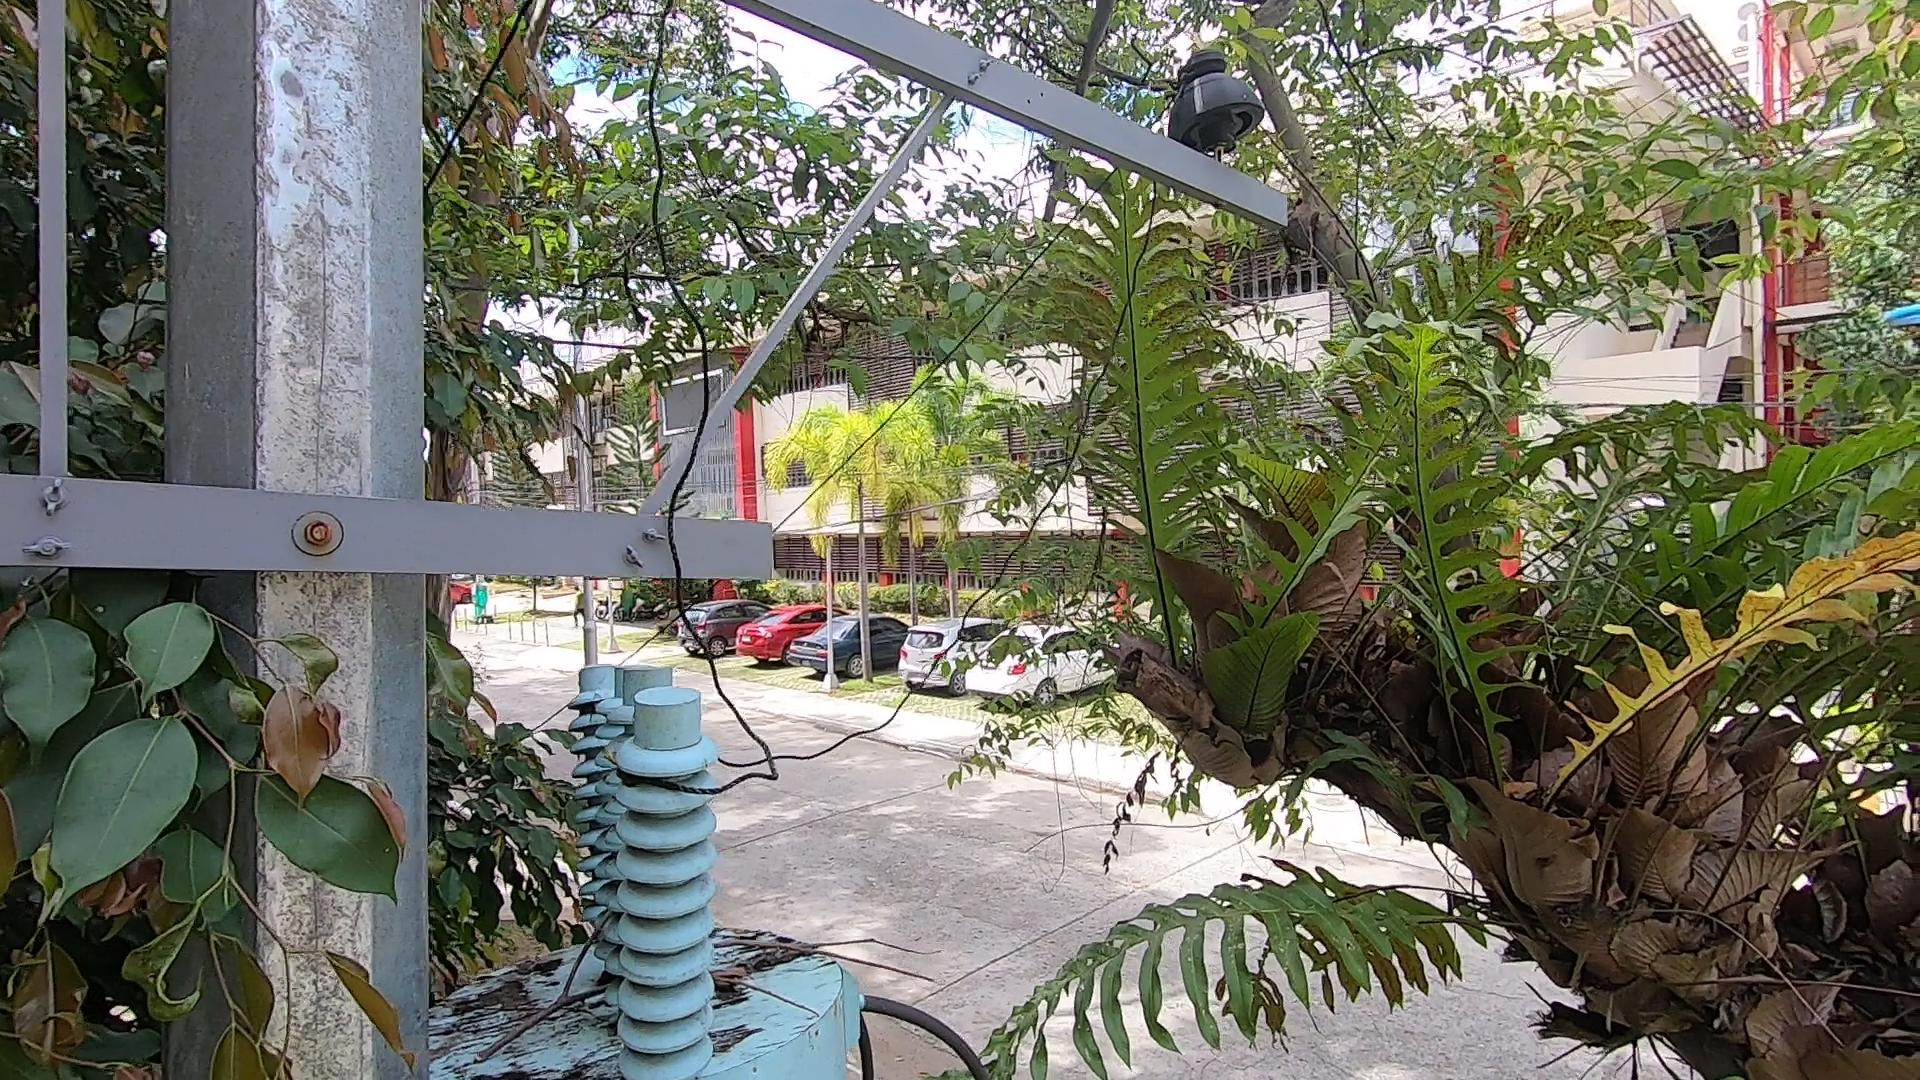branch with leaves: (29, 636, 401, 1080)
leaf: (458, 977, 542, 1030), (704, 935, 760, 1002)
tree branch: (400, 902, 945, 1019)
